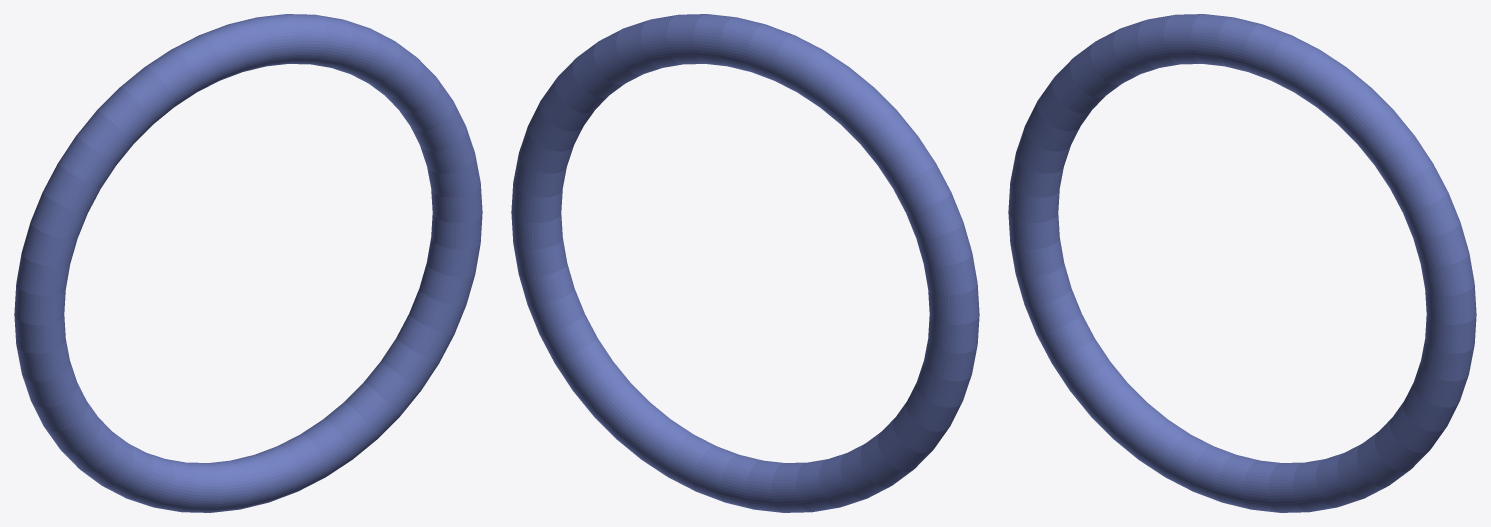
3 renders of one model, left to right at view 1: azimuth 30°, elevation 25°; view 2: azimuth 150°, elevation 25°; view 3: azimuth 330°, elevation 25°, orthographic.
Parts seen in each view (by area): view 1: world; view 2: world; view 3: world.
Part boxes in pixels (bbox=[...]): world: bbox=[14, 14, 482, 512]; world: bbox=[511, 14, 979, 512]; world: bbox=[1008, 14, 1476, 512].
Bounding box in the file's own units: 21.33 × 21.29 × 2.
